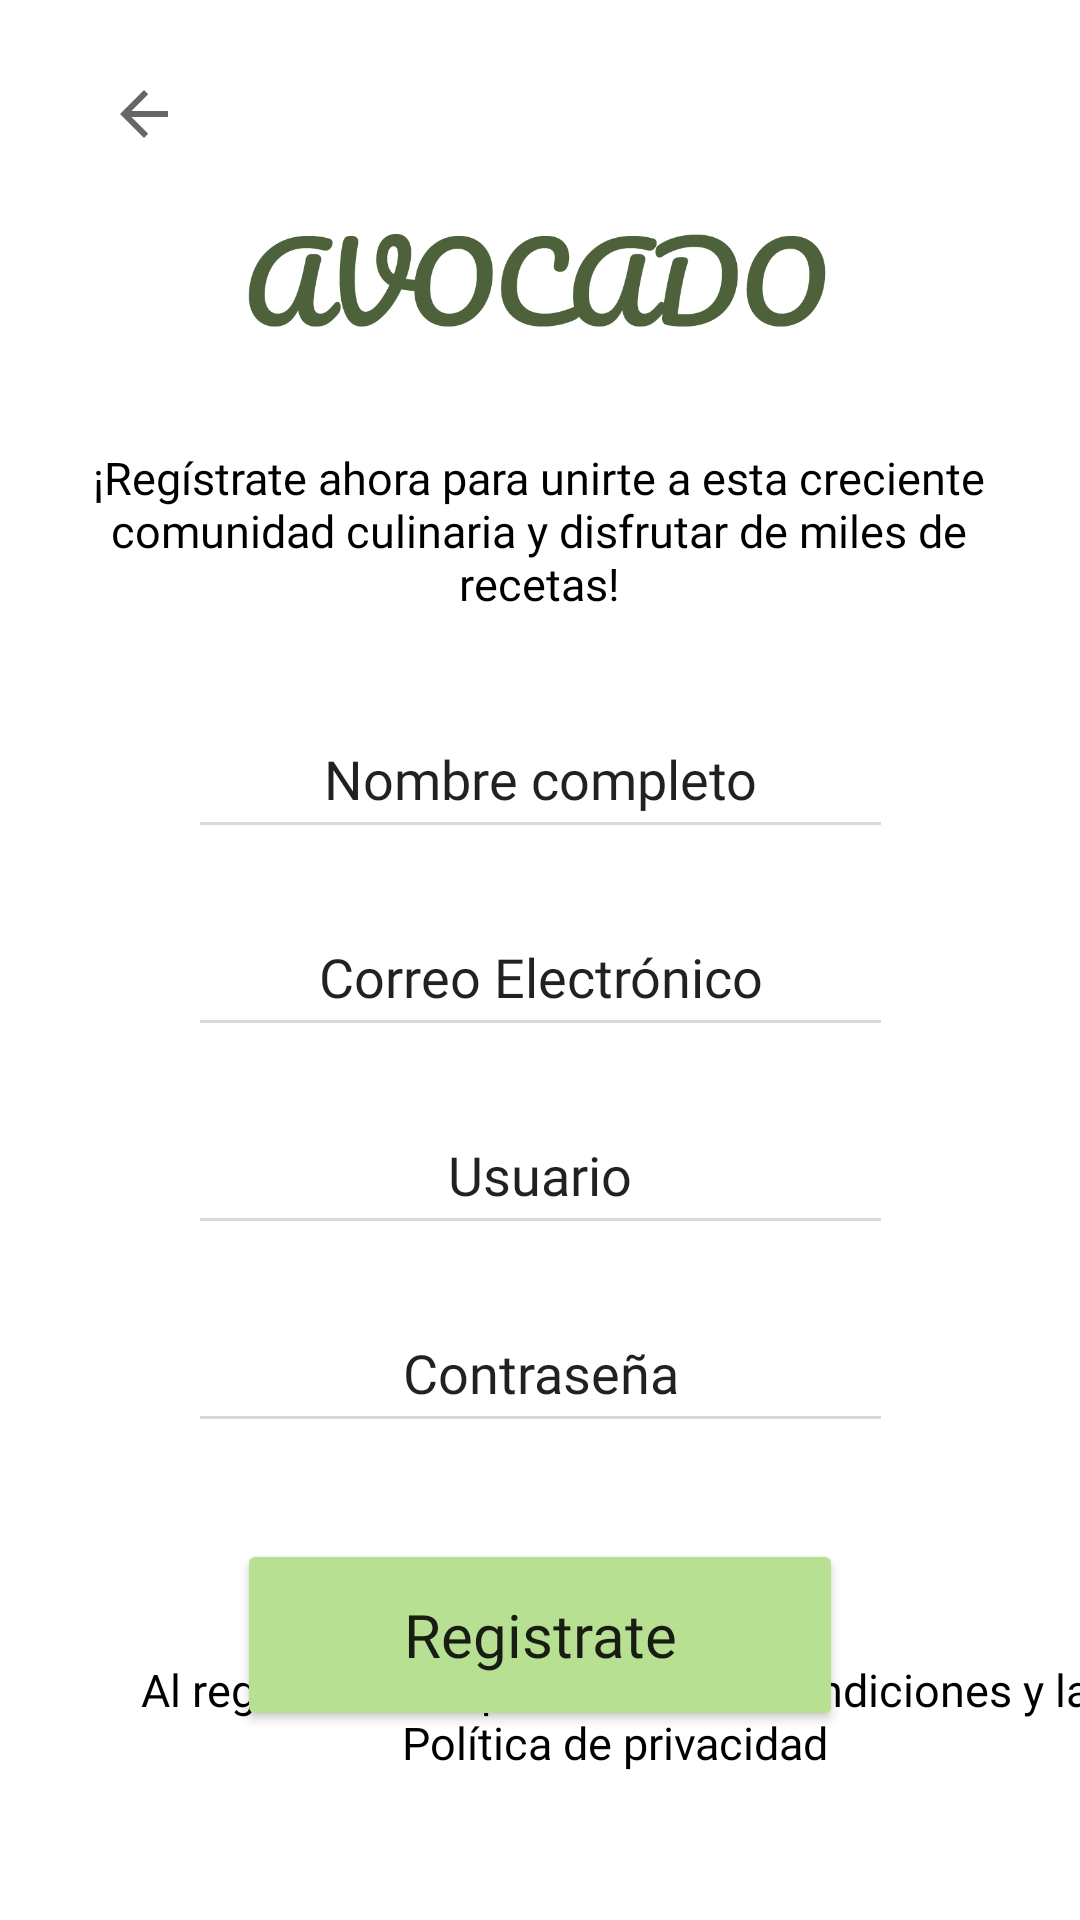

Screen size 1080x1920. Icon name, then its box in pixels as (x1, y1, x2, y2):
Botón de volver al home: (120, 90, 168, 138)
